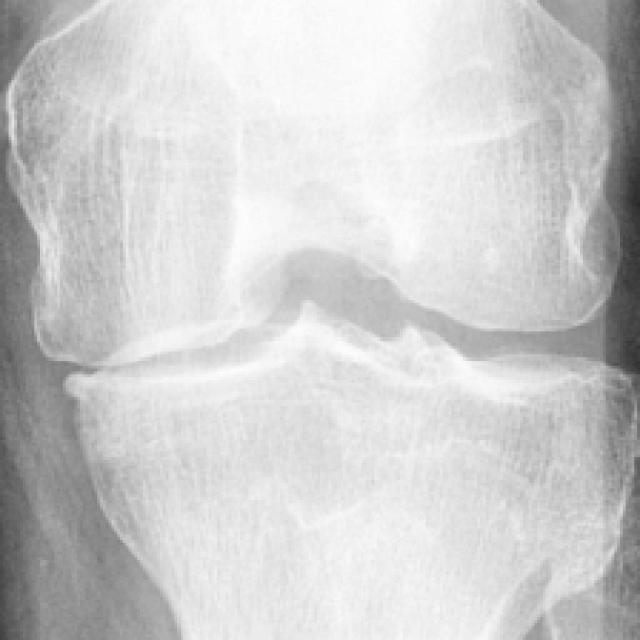femur: (4, 0, 623, 367)
tibia: (63, 300, 640, 640)
